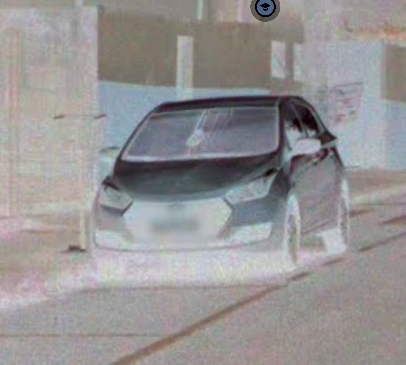car: (81, 86, 358, 278)
